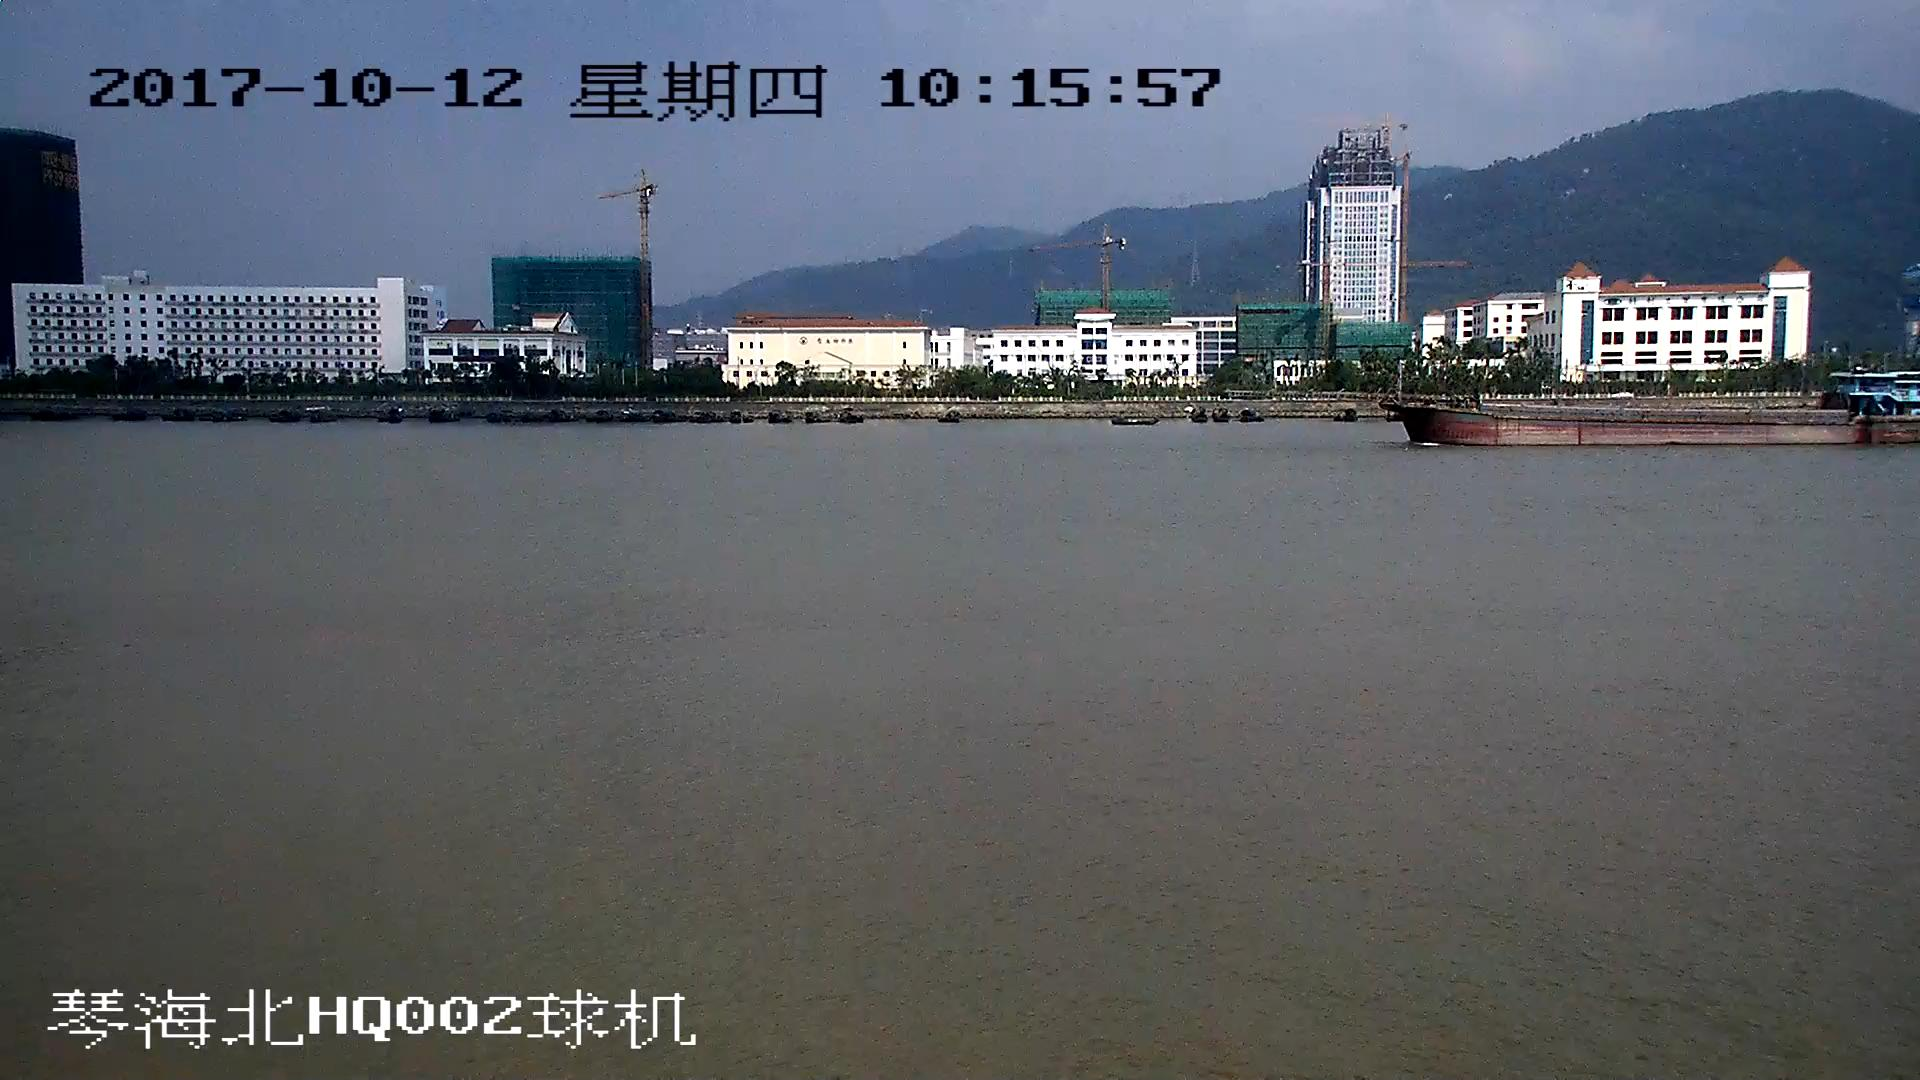bulk cargo carrier: (1394, 367, 1920, 442)
